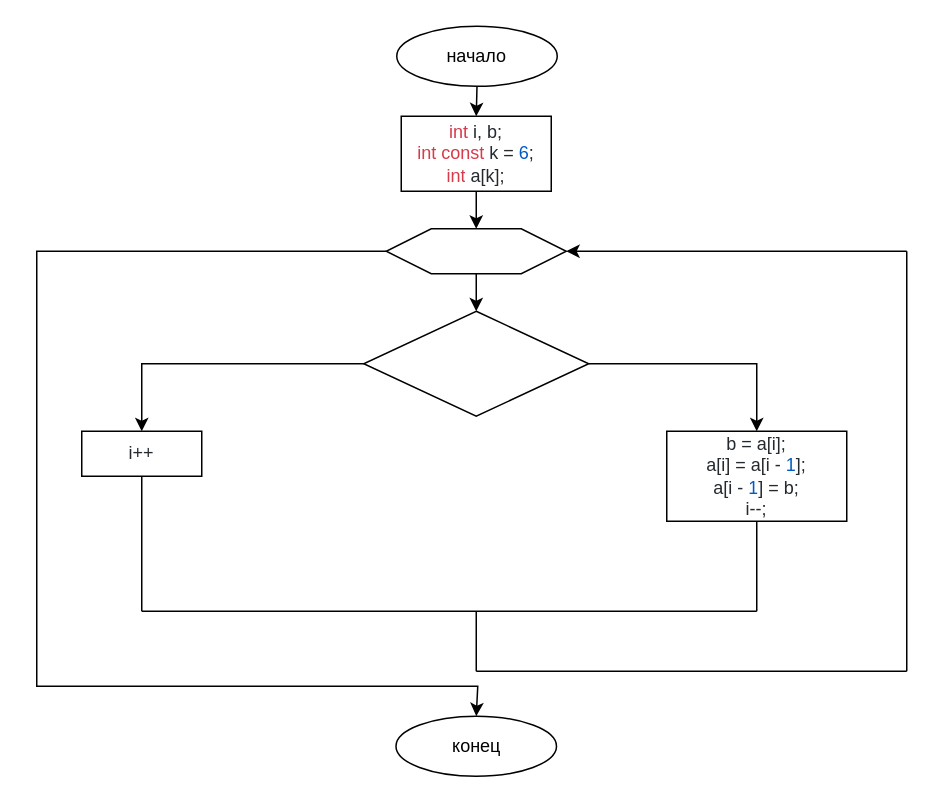
The diagram is 945 pixels wide and 803 high, and some of its shapes have lost their labels. The centre of each missing label's shape, as x and y in pixels:
i = 0 ; i < k;: the point at 475,250
i == 0 || a[i] >= a[i - 1 ]: the point at 475,363
